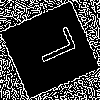L: (25, 25, 77, 69)
